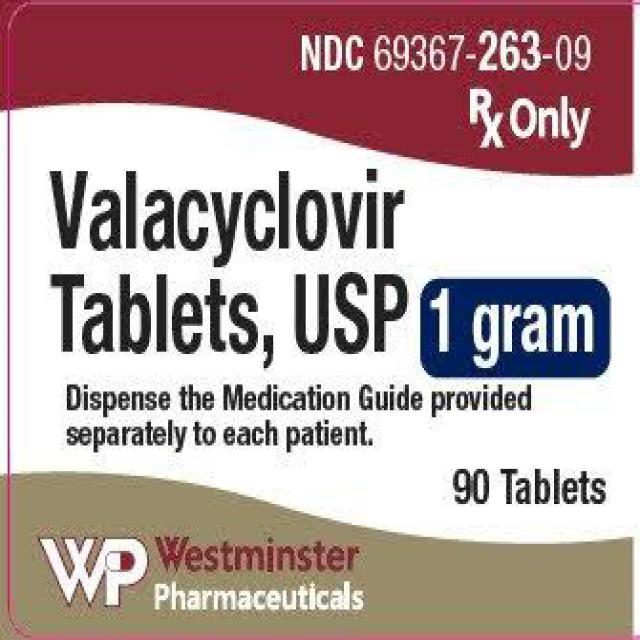drug-name: (42, 161, 411, 263)
